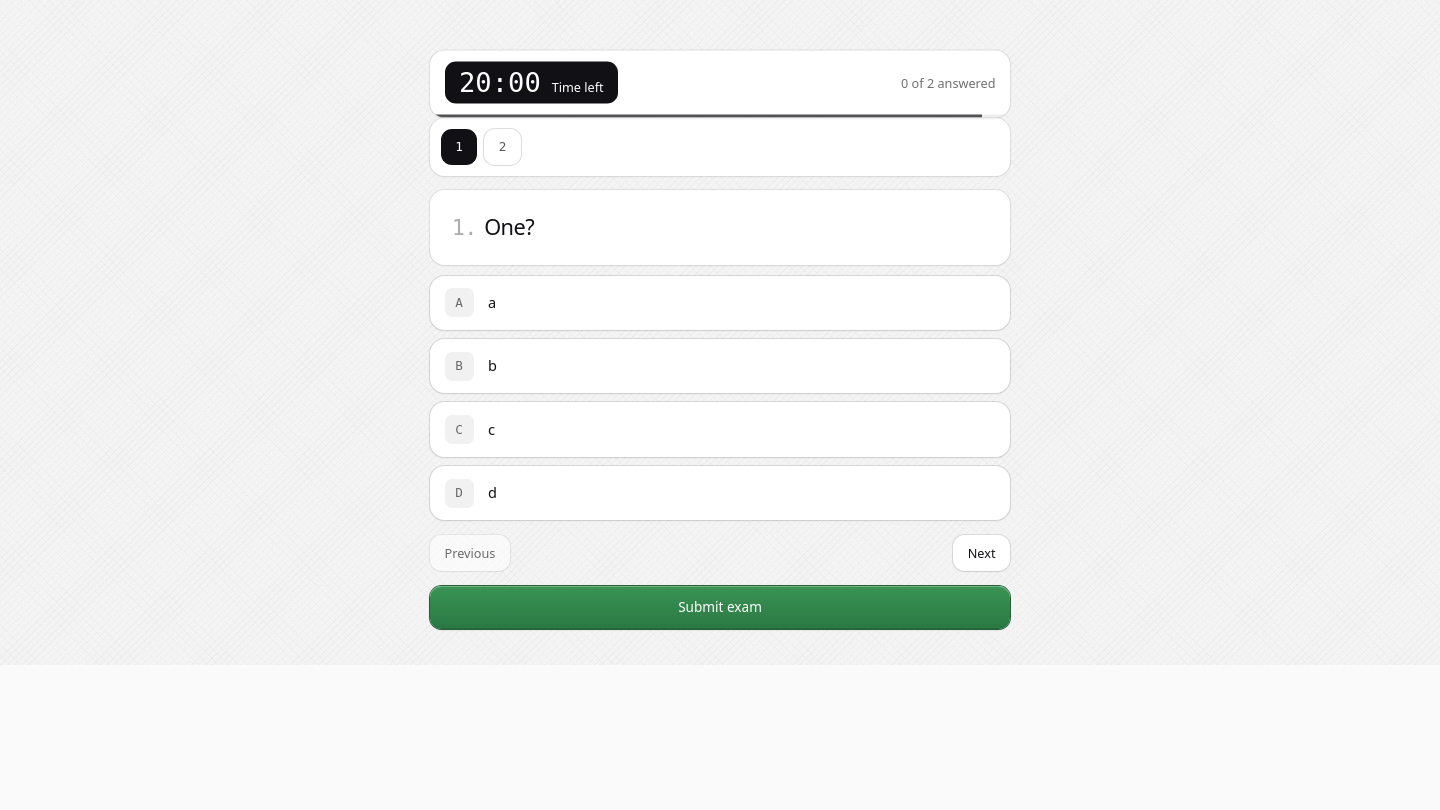
Scenario: ExamAttemptView submit › confirms inside the page so the browser never leaves full screen
What coordinates should you click on to do the following:
click the button "Submit exam"
I would click on:
 (720, 607)
Its box is [430,586,1010,629].
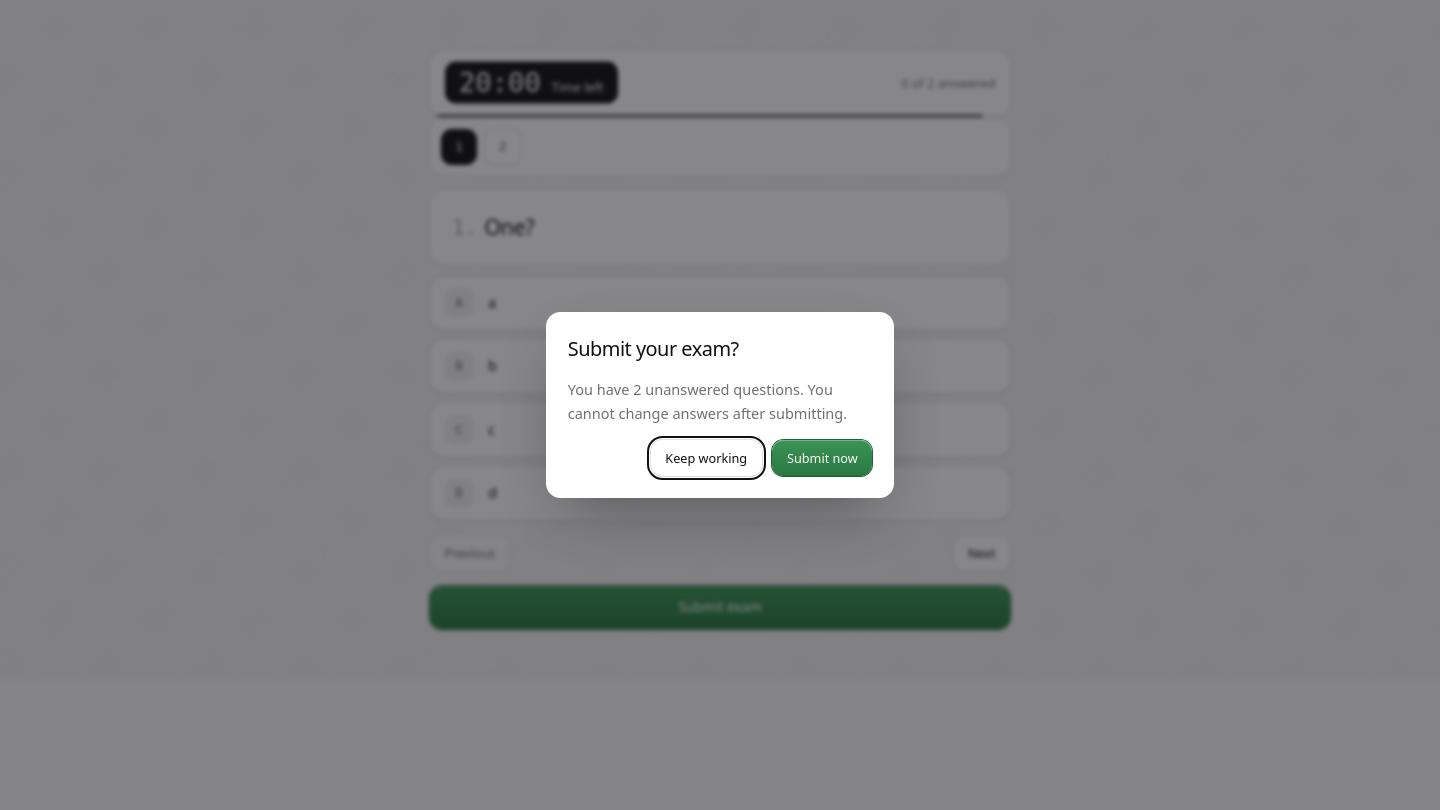
Now the dialog "Submit your exam?" shows "You have 2 unanswered questions", box [568,379,847,423]
